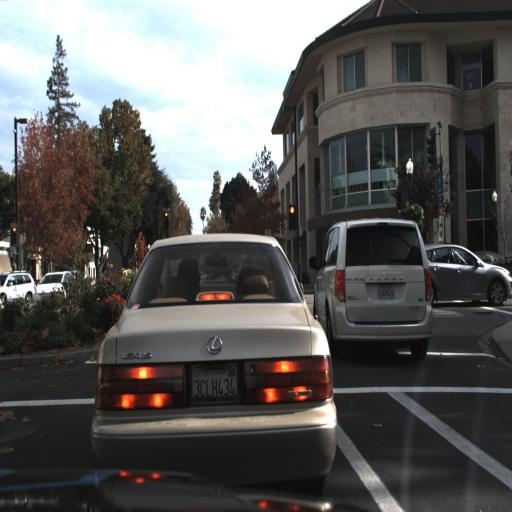car: (96, 228, 329, 474), (313, 217, 431, 358), (411, 240, 511, 310), (29, 267, 77, 302), (0, 270, 35, 303)
trafficLight-Red: (287, 203, 296, 232), (10, 222, 18, 246), (161, 208, 169, 231)
